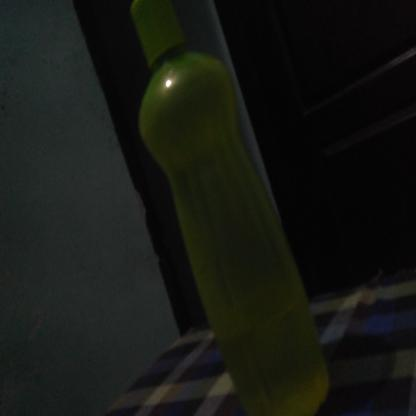bottle: (1, 168, 312, 416)
